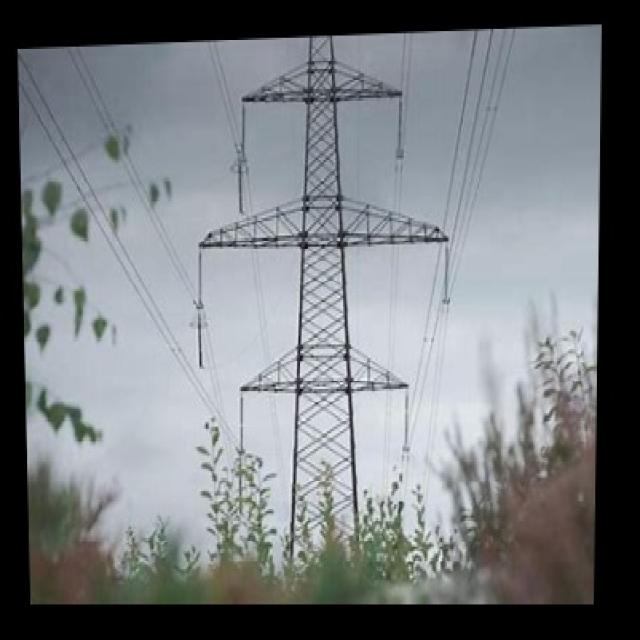utility poles: (168, 339, 482, 609)
